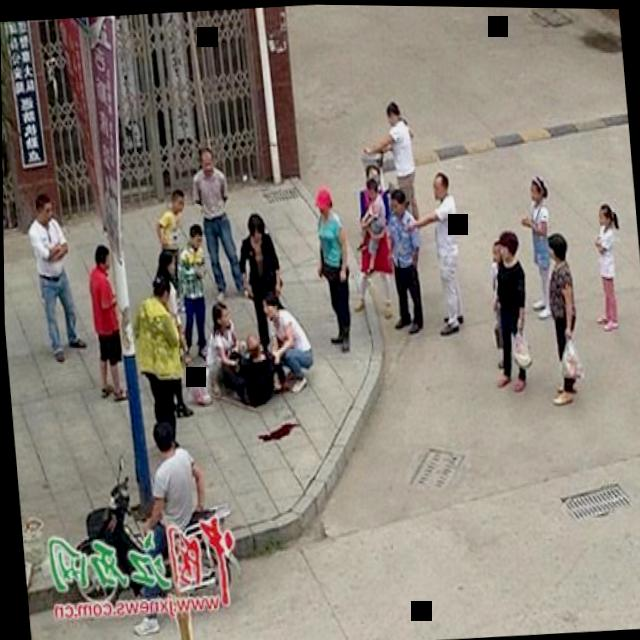Fall-Detected: (215, 324, 283, 408)
